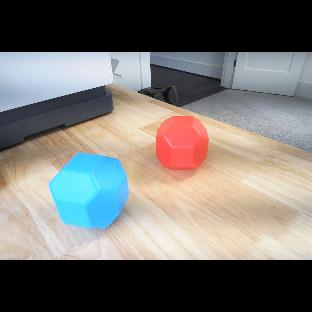V5_BLUE: (50, 152, 128, 230)
V5_RED: (155, 115, 209, 171)
